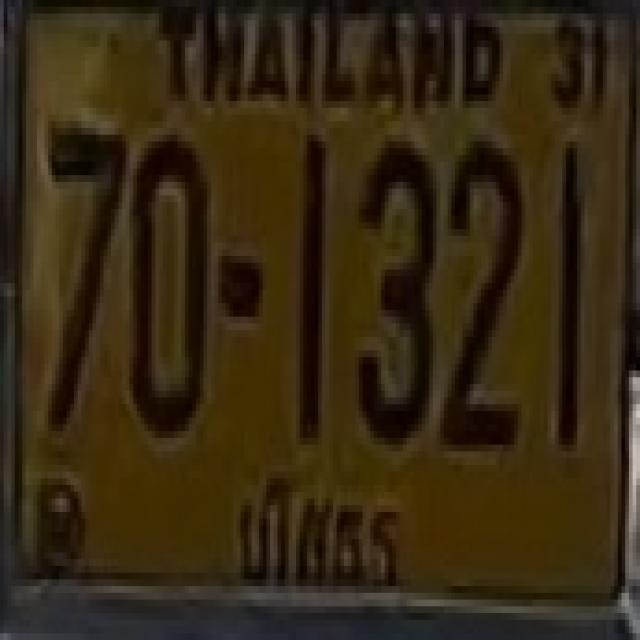0: (130, 128, 203, 431)
1: (296, 132, 322, 434), (557, 138, 579, 441)
2: (442, 134, 520, 444)
3: (355, 135, 433, 438)
7: (46, 122, 124, 424)
YST: (234, 467, 416, 598)
